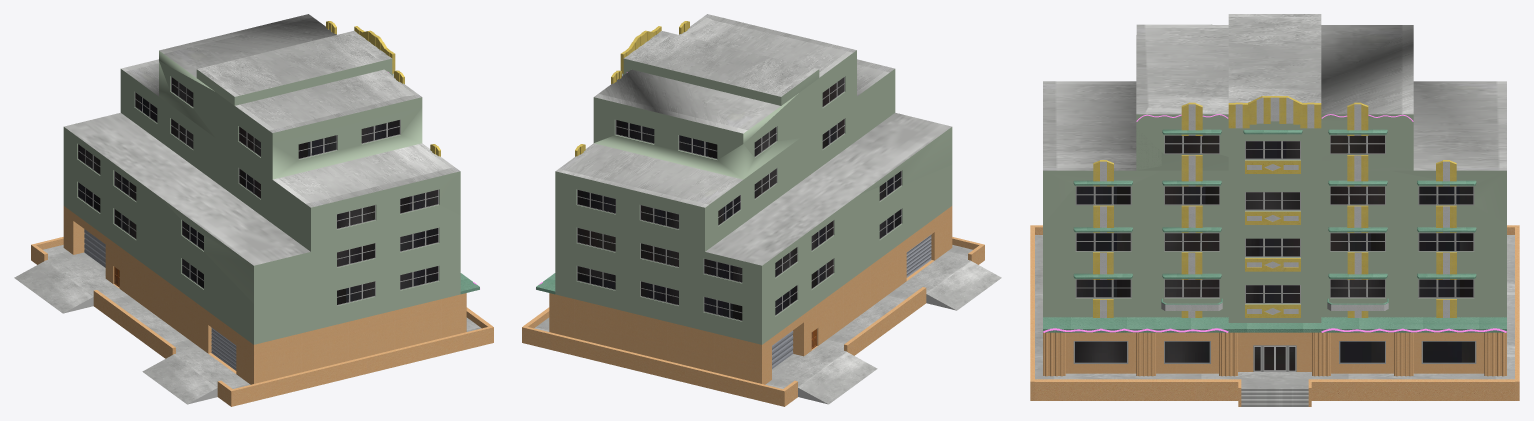
The model's file is green_apartment.glb.
The picture shows the model from 3 angles, left to right: view 1: azimuth 30°, elevation 25°; view 2: azimuth 150°, elevation 25°; view 3: azimuth 270°, elevation 25°; orthographic projection. The views are drawn at different scales.
Visible parts, largest first — view 1: green_apartment; view 2: green_apartment; view 3: green_apartment.
Boxes of the visible parts, x1=… form: green_apartment: x1=14, y1=14, x2=493, y2=406; green_apartment: x1=522, y1=14, x2=1001, y2=406; green_apartment: x1=1030, y1=14, x2=1519, y2=406.
Size of the model in its own units: 19.19 by 14.47 by 21.93.
Materials: 10 (9 with a texture image).
